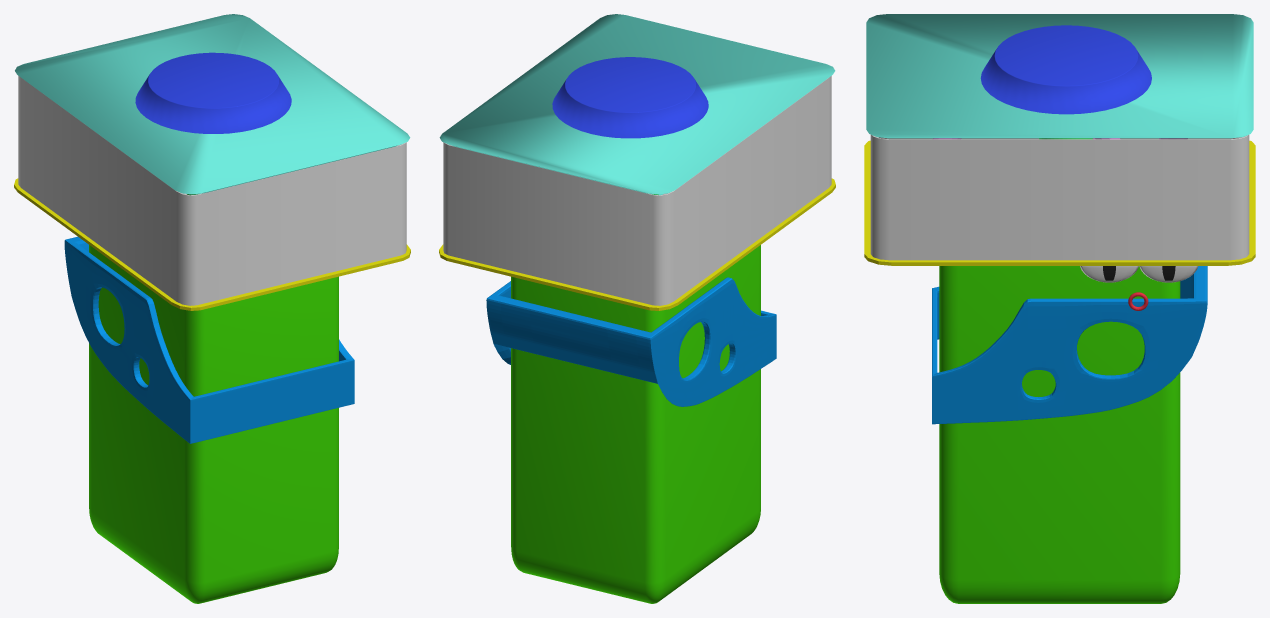
Rendered from part_2 building.fbx.
3 renders of one model, left to right at view 1: azimuth 30°, elevation 25°; view 2: azimuth 150°, elevation 25°; view 3: azimuth 270°, elevation 25°, orthographic. The views are drawn at different scales.
Parts seen in each view (by area): view 1: building_base, glass_box, glass_box_top, building_skin, cap, track; view 2: building_base, glass_box, glass_box_top, building_skin, cap, track; view 3: building_base, glass_box, glass_box_top, building_skin, cap, track, right_eye, left_eye.
Part boxes in pixels (x1,y1,x2,y2): building_base: [89, 245, 338, 603]; glass_box: [18, 76, 406, 305]; glass_box_top: [15, 14, 410, 194]; building_skin: [64, 236, 354, 443]; cap: [135, 52, 291, 133]; track: [14, 178, 410, 310]; building_base: [511, 245, 760, 603]; glass_box: [443, 76, 831, 305]; glass_box_top: [439, 14, 835, 194]; building_skin: [486, 277, 776, 406]; cap: [552, 57, 708, 138]; track: [439, 178, 835, 310]; building_base: [939, 266, 1180, 603]; glass_box: [870, 135, 1249, 260]; glass_box_top: [866, 14, 1253, 138]; building_skin: [932, 266, 1207, 424]; cap: [980, 25, 1151, 114]; track: [864, 140, 1255, 265]; right_eye: [1139, 266, 1198, 282]; left_eye: [1080, 266, 1138, 282].
Bounding box in the file's own units: 9126 × 17128 × 11791.
